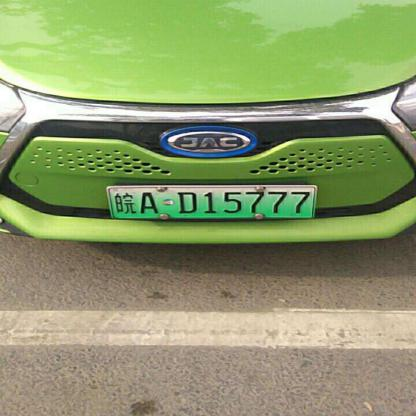lp: (107, 186, 314, 220)
